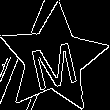M_N: (26, 29, 81, 89)
